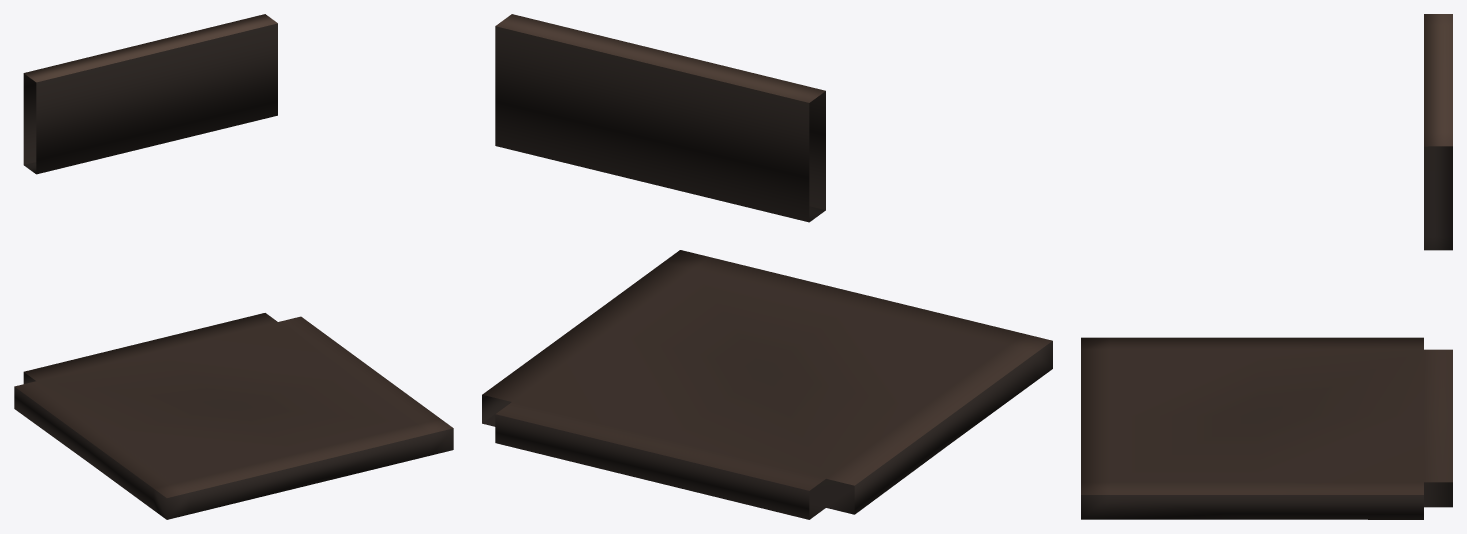
The picture shows the model from 3 angles, left to right: view 1: azimuth 30°, elevation 25°; view 2: azimuth 150°, elevation 25°; view 3: azimuth 270°, elevation 25°; orthographic projection. The views are drawn at different scales.
Visible parts, largest first — view 1: base.002; view 2: base.002; view 3: base.002.
Part boxes in pixels (box(x1,y1,x2,y2)): base.002: box(14, 14, 453, 519); base.002: box(482, 14, 1052, 519); base.002: box(1081, 14, 1452, 519).
Bounding box in the file's own units: 0.4673 × 0.5 × 0.4667.
